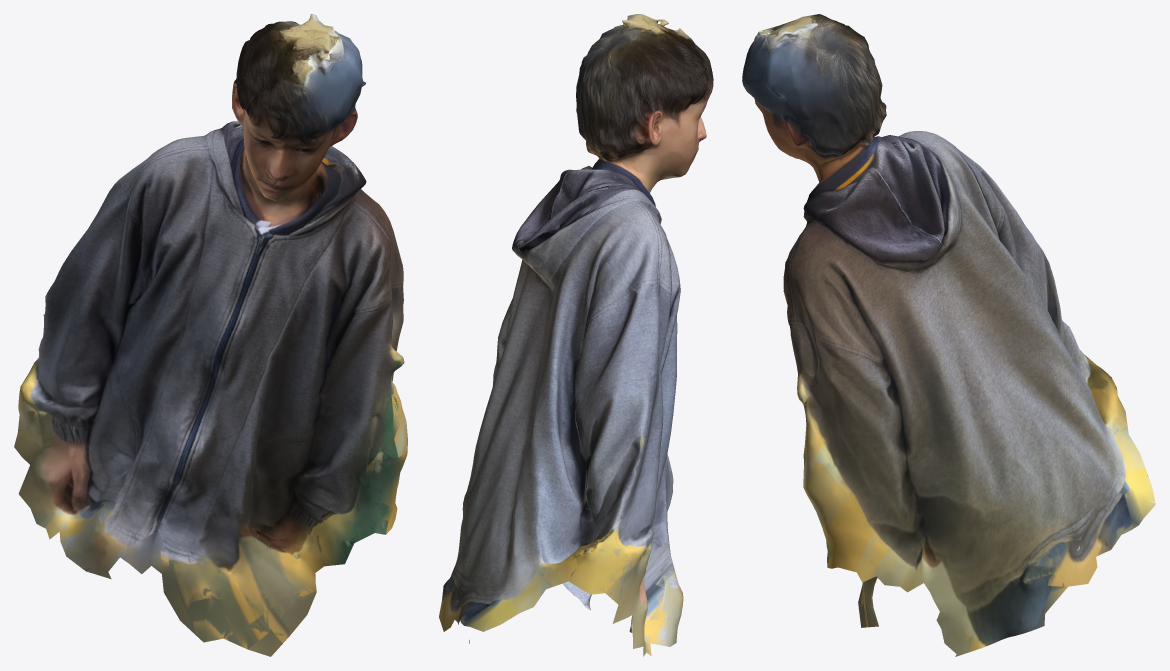
The model's file is berilio.glb.
The picture shows the model from 3 angles, left to right: view 1: azimuth 30°, elevation 25°; view 2: azimuth 150°, elevation 25°; view 3: azimuth 270°, elevation 25°; orthographic projection. The views are drawn at different scales.
Parts seen in each view (by area): view 1: defaultobject; view 2: defaultobject; view 3: defaultobject.
Boxes of the visible parts, x1,y1,x2,y2 form: defaultobject: (14,14,407,656); defaultobject: (439,14,713,656); defaultobject: (742,14,1155,656).
Bounding box in the file's own units: 0.4302 × 1.03 × 0.6317.
1 material, 1 textured.
